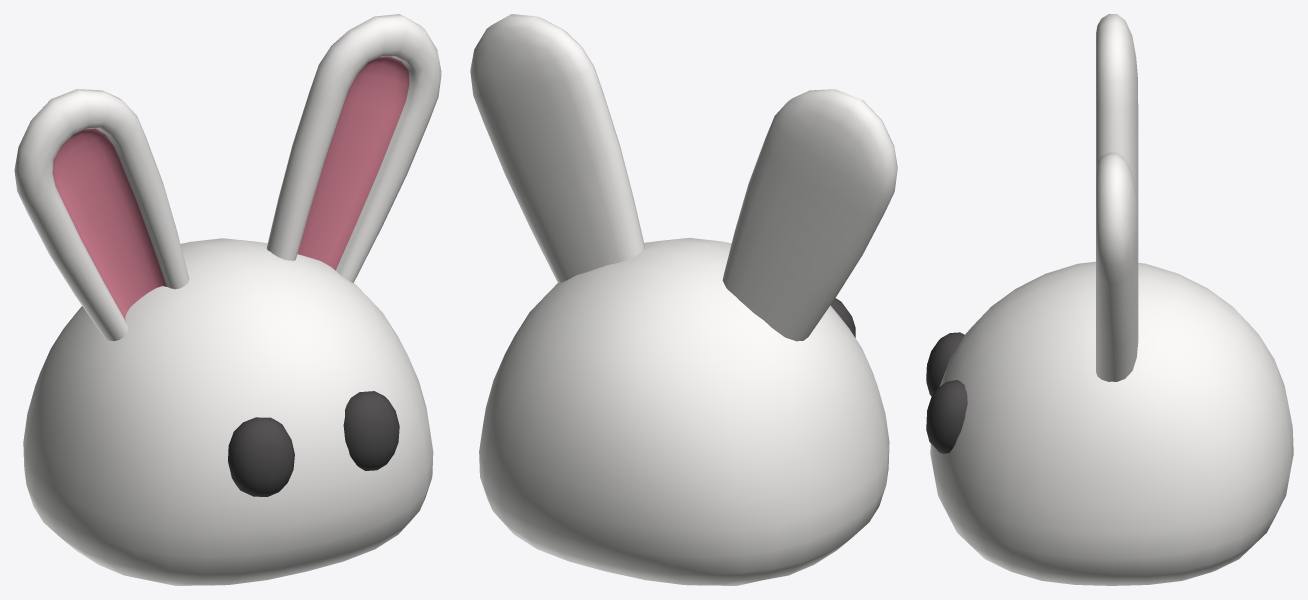
The model's file is Doll_rabbit.glb.
The picture shows the model from 3 angles, left to right: view 1: azimuth 30°, elevation 25°; view 2: azimuth 150°, elevation 25°; view 3: azimuth 270°, elevation 25°; orthographic projection. The views are drawn at different scales.
Parts seen in each view (by area): view 1: Toy_Rabbit_1; view 2: Toy_Rabbit_1; view 3: Toy_Rabbit_1.
Boxes of the visible parts, box(x1,y1,x2,y2) form: Toy_Rabbit_1: box(14, 14, 441, 585); Toy_Rabbit_1: box(470, 14, 897, 585); Toy_Rabbit_1: box(926, 14, 1293, 585).
Size of the model in its own units: 0.5455 by 0.5871 by 0.4416.
1 material, 1 textured.
